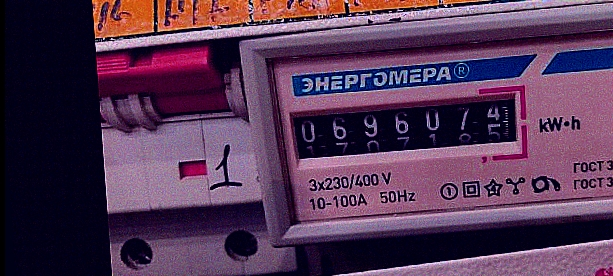0: (299, 117, 318, 143), (424, 105, 442, 132)
4: (486, 100, 501, 122)
5: (488, 122, 503, 142)
6: (393, 107, 411, 135), (330, 114, 349, 140)
7: (455, 104, 473, 131)
9: (361, 112, 380, 139)
screen: (283, 82, 534, 176)
